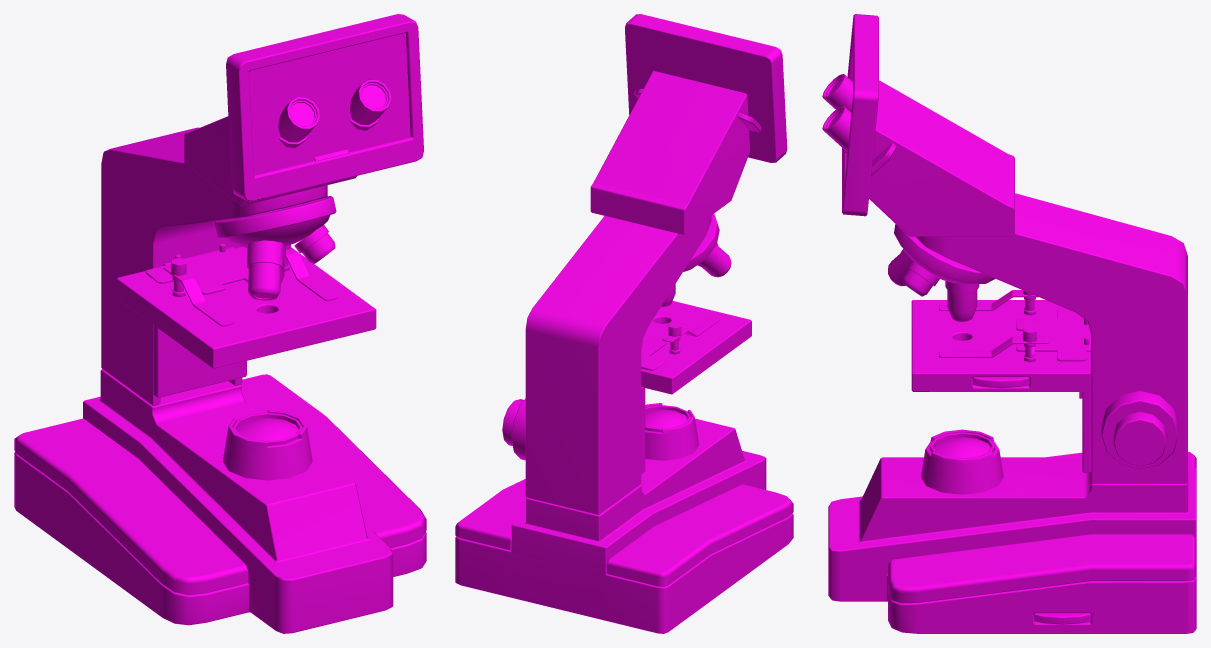
Rendered from Microscope01.FBX.
3 views of the same model, side by side, from view 1: azimuth 30°, elevation 25°; view 2: azimuth 150°, elevation 25°; view 3: azimuth 270°, elevation 25° (orthographic). The views are drawn at different scales.
Parts seen in each view (by area): view 1: Microscope01_Base, Microscope01_Monitor, Microscope01_Occulus; view 2: Microscope01_Base, Microscope01_Monitor, Microscope01_Occulus; view 3: Microscope01_Base, Microscope01_Monitor, Microscope01_Occulus.
Part boxes in pixels (x1,y1,x2,y2): Microscope01_Base: (14,127,426,633); Microscope01_Monitor: (184,14,423,205); Microscope01_Occulus: (184,79,391,204); Microscope01_Base: (455,213,793,633); Microscope01_Monitor: (590,14,787,234); Microscope01_Occulus: (590,89,761,233); Microscope01_Base: (828,193,1196,633); Microscope01_Monitor: (842,14,1014,236); Microscope01_Occulus: (822,74,1014,234).
Size of the model in its own units: 27.55 by 56.88 by 36.63.
